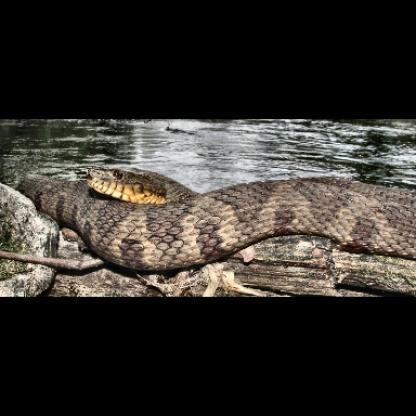Snake: (5, 128, 410, 282), (46, 148, 216, 286)
